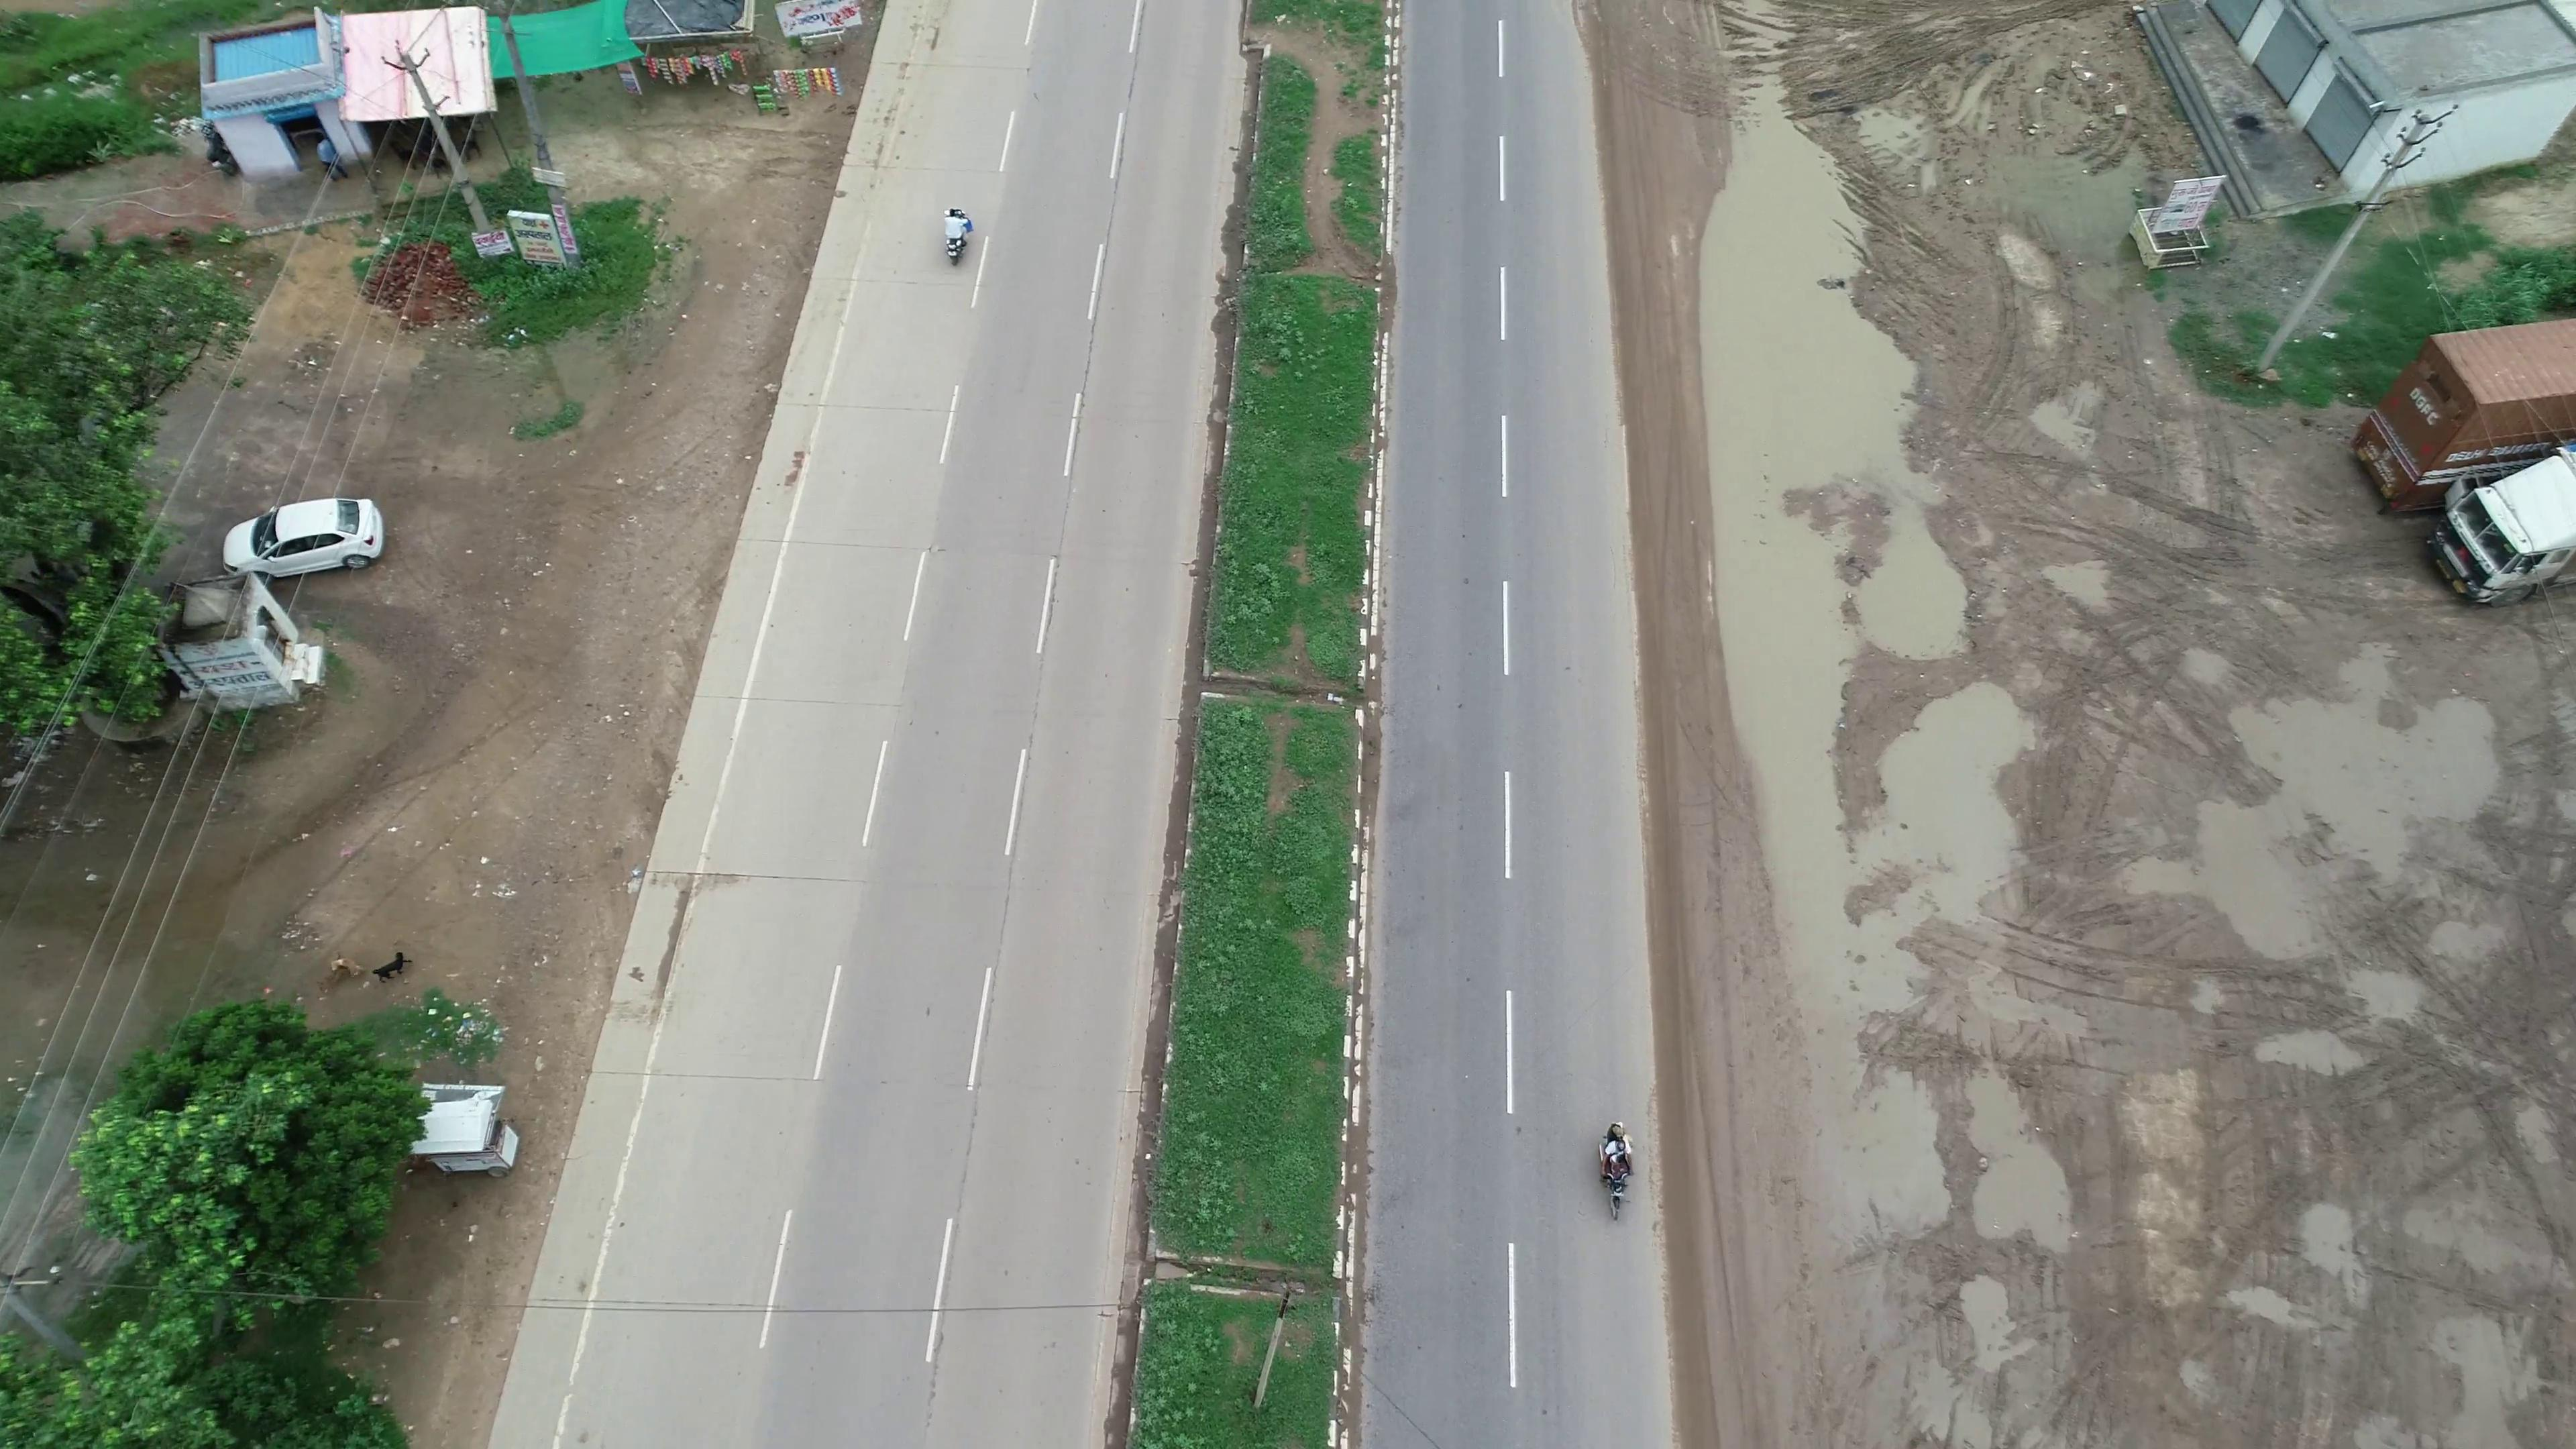Muddy_road: (1633, 895, 1778, 1431), (1583, 405, 1721, 867), (1560, 12, 1690, 400)
Waterlogging: (1697, 73, 1927, 770)
